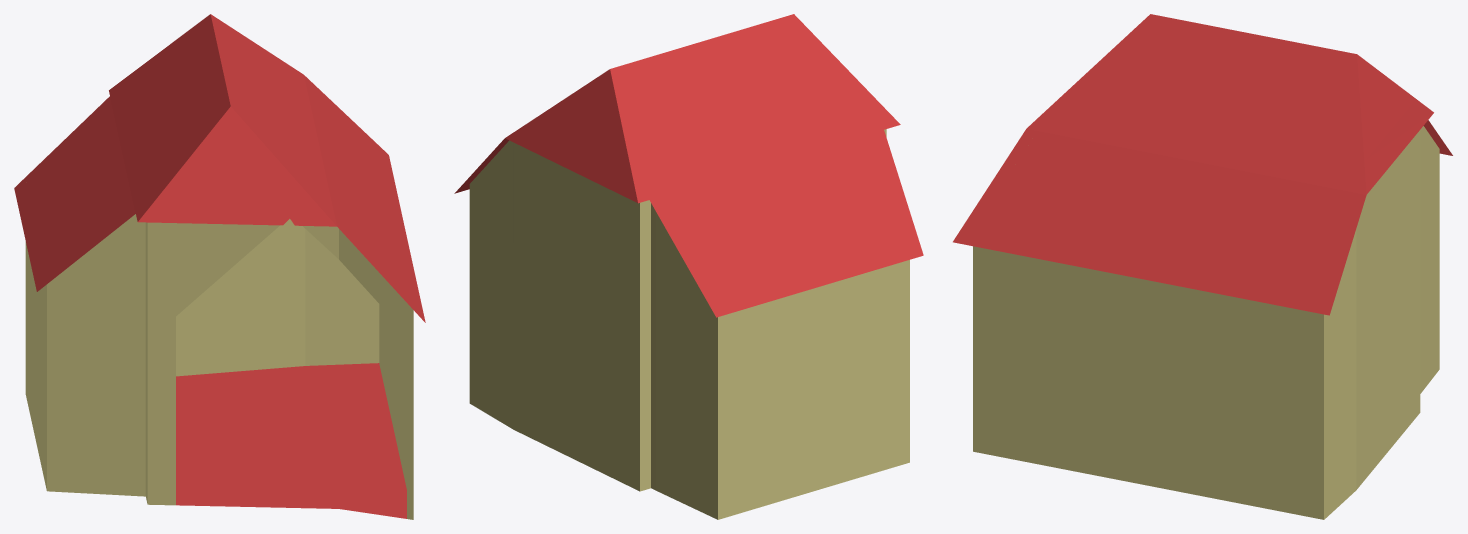
3 renders of one model, left to right at view 1: azimuth 30°, elevation 25°; view 2: azimuth 150°, elevation 25°; view 3: azimuth 270°, elevation 25°, orthographic. The views are drawn at different scales.
Size of the model in its own units: 21.61 by 22.35 by 19.12.
